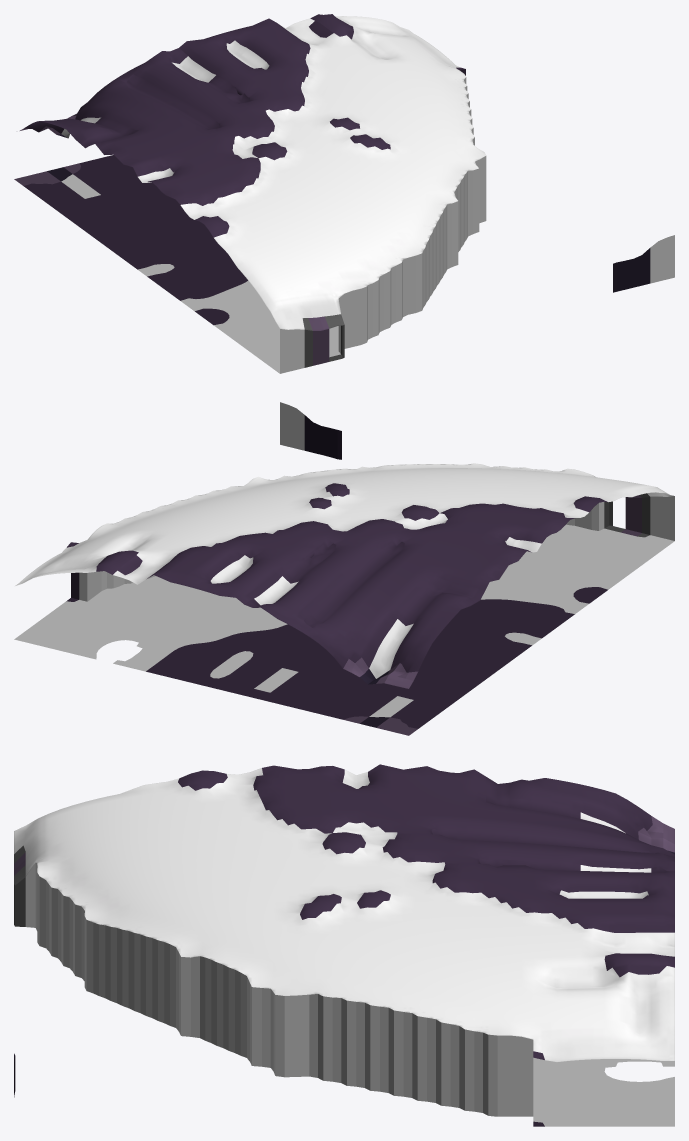
Rendered from delbld-hull-572.glb.
3 views of the same model, one above another, from view 1: azimuth 30°, elevation 25°; view 2: azimuth 150°, elevation 25°; view 3: azimuth 270°, elevation 25° (orthographic). The views are drawn at different scales.
Parts seen in each view (by area): view 1: delbld-hull-572; view 2: delbld-hull-572; view 3: delbld-hull-572.
Part boxes in pixels (left/top/right/bottom): delbld-hull-572: left=14, top=14, right=674, bottom=373; delbld-hull-572: left=14, top=402, right=674, bottom=735; delbld-hull-572: left=14, top=764, right=674, bottom=1126.
Size of the model in its own units: 2 by 0.4799 by 2.33.
Materials: 5 (5 with a texture image).
